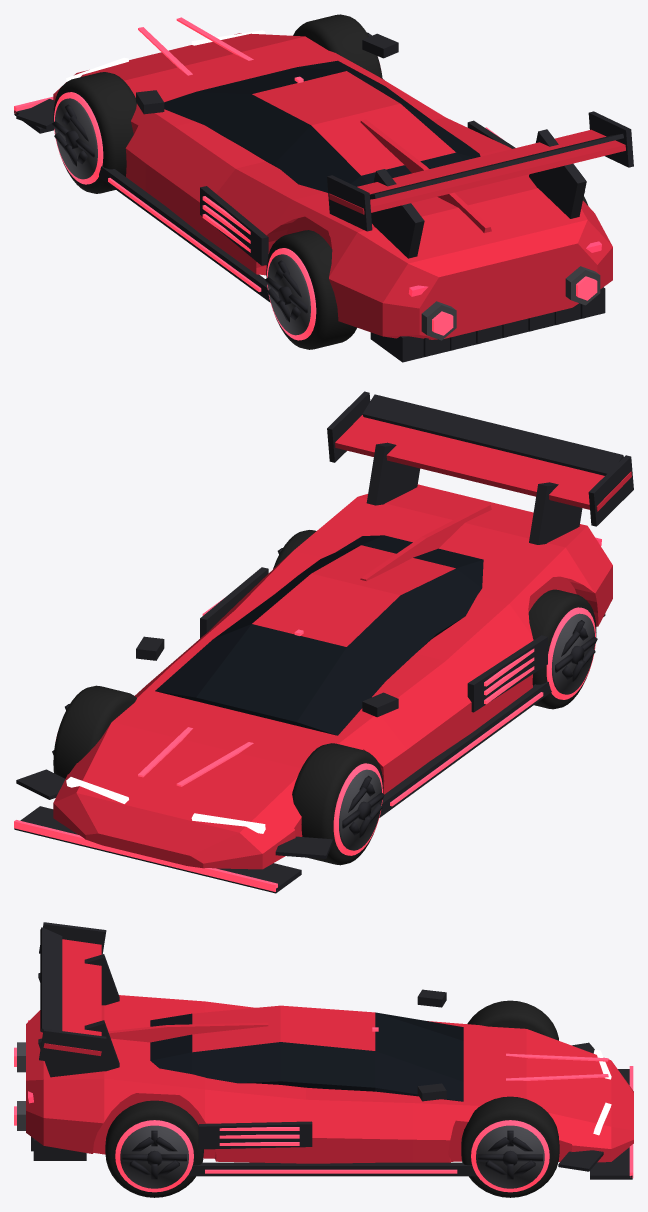
The model's file is car.glb.
3 views of the same model, one above another, from view 1: azimuth 30°, elevation 25°; view 2: azimuth 150°, elevation 25°; view 3: azimuth 270°, elevation 25° (orthographic). The views are drawn at different scales.
Visible parts, largest first — view 1: Body, Cabin, wheel_FL, wheel_RL, wing, diffuser, wheel_FR, skirt_-1, pylon_1, pylon_-1, scoop_-1, wing_flap (+9 smaller); view 2: Body, Cabin, wing, wheel_FL, wing_flap, wheel_RL, wheel_FR, skirt_-1, splitter, pylon_1, pylon_-1, splitter_edge (+8 smaller); view 3: Body, Cabin, wheel_FR, wheel_RR, wing, skirt_1, wing_flap, scoop_1, wheel_FL, wing_end_1, fin, pylon_1 (+10 smaller).
Part boxes in pixels (bbox=[...]): Body: bbox=[53, 33, 612, 339]; Cabin: bbox=[164, 60, 480, 192]; wheel_FL: bbox=[52, 72, 136, 193]; wheel_RL: bbox=[265, 230, 356, 349]; wing: bbox=[329, 129, 625, 214]; diffuser: bbox=[370, 287, 605, 362]; wheel_FR: bbox=[293, 14, 383, 79]; skirt_-1: bbox=[99, 166, 270, 302]; pylon_1: bbox=[529, 129, 586, 218]; pylon_-1: bbox=[371, 169, 424, 258]; scoop_-1: bbox=[200, 186, 268, 265]; wing_flap: bbox=[369, 134, 623, 199]; Body: bbox=[53, 484, 612, 869]; Cabin: bbox=[155, 535, 483, 735]; wing: bbox=[335, 415, 631, 511]; wheel_FL: bbox=[292, 743, 384, 865]; wing_flap: bbox=[362, 394, 623, 475]; wheel_RL: bbox=[528, 589, 597, 709]; wheel_FR: bbox=[52, 685, 136, 778]; skirt_-1: bbox=[379, 681, 551, 817]; splitter: bbox=[14, 806, 301, 893]; pylon_1: bbox=[366, 442, 419, 505]; pylon_-1: bbox=[529, 482, 582, 544]; splitter_edge: bbox=[14, 820, 277, 891]; Body: bbox=[26, 995, 633, 1163]; Cabin: bbox=[150, 1005, 463, 1101]; wheel_FR: bbox=[461, 1096, 559, 1197]; wheel_RR: bbox=[105, 1100, 203, 1197]; wing: bbox=[43, 939, 101, 1055]; skirt_1: bbox=[187, 1162, 476, 1176]; wing_flap: bbox=[40, 927, 62, 1032]; scoop_1: bbox=[198, 1121, 312, 1149]; wheel_FL: bbox=[467, 1000, 558, 1040]; wing_end_1: bbox=[39, 1029, 106, 1068]; fin: bbox=[108, 1022, 268, 1042]; pylon_1: bbox=[38, 1020, 119, 1077].
Size of the model in its own units: 2.37 by 1.46 by 4.92.
